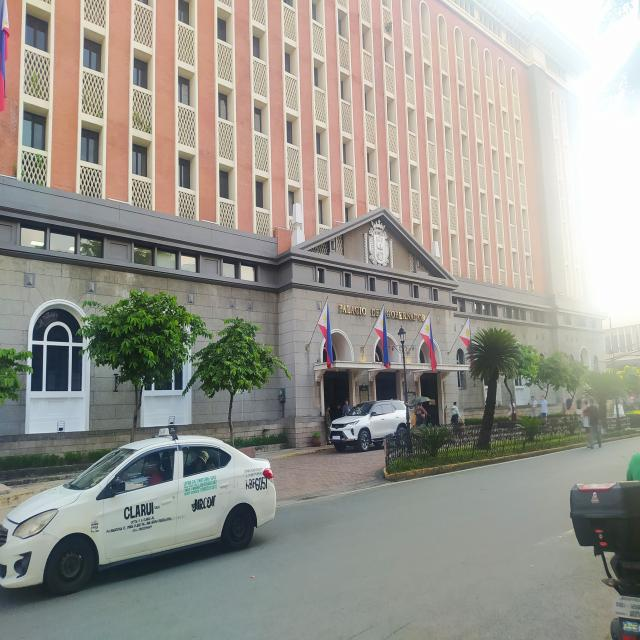Palacio de Gobernador: (4, 6, 605, 495)
